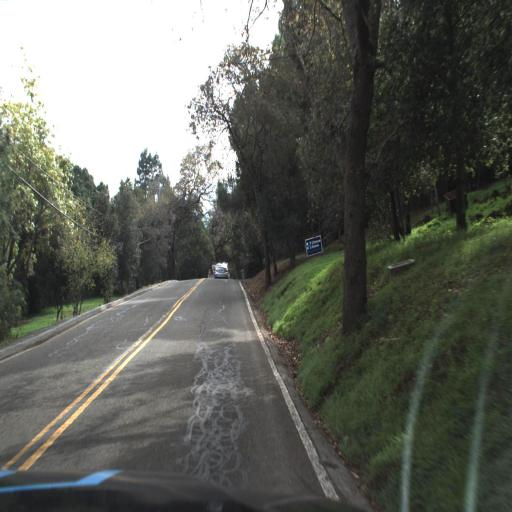car: (213, 256, 232, 280)
